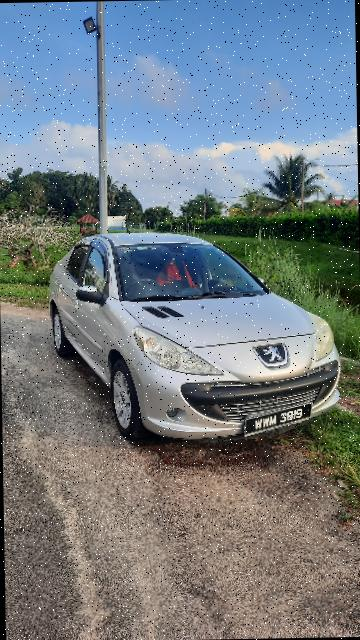License_Plate: (240, 402, 319, 440)
car: (45, 228, 349, 450)
